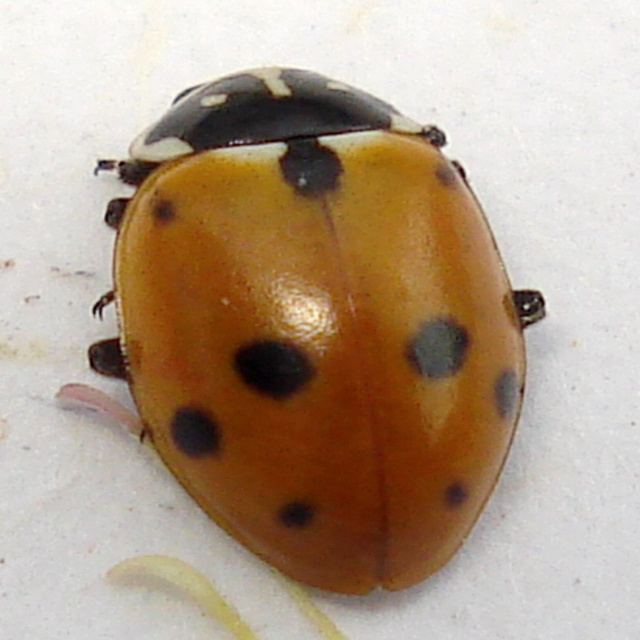Ladybug: (90, 62, 542, 598)
